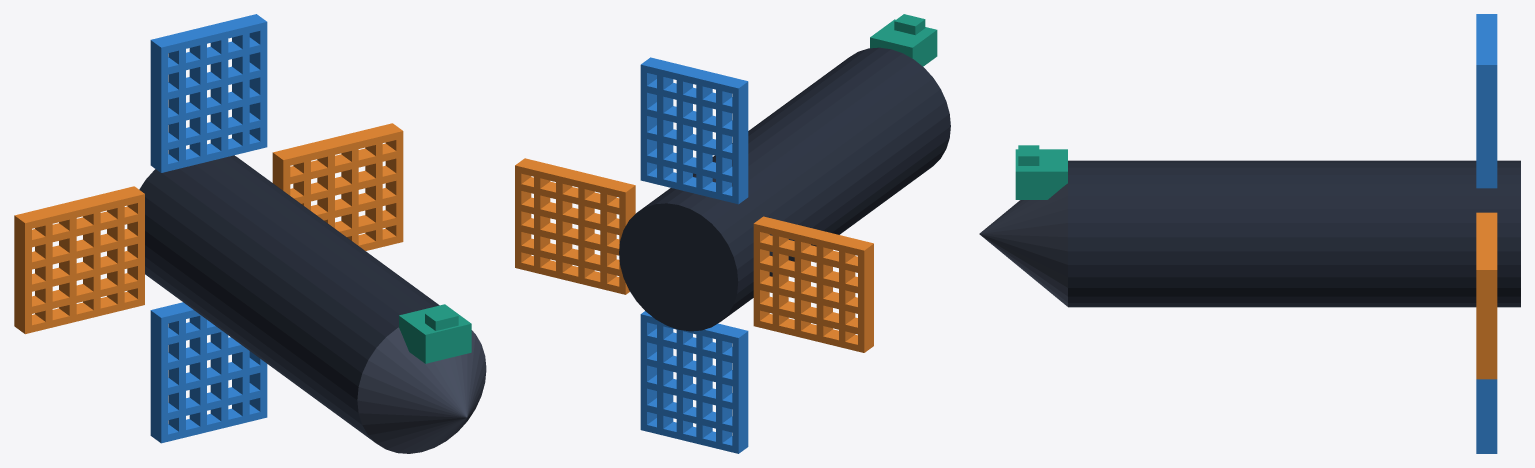
The model's file is grid-fin-model.obj.
3 renders of one model, left to right at view 1: azimuth 30°, elevation 25°; view 2: azimuth 150°, elevation 25°; view 3: azimuth 270°, elevation 25°, orthographic. The views are drawn at different scales.
Parts seen in each view (by area): view 1: Rocket_body, S8_TOP, S10_LEFT, S9_BOTTOM, S7_RIGHT, Nose, Camera_on_top_of_nose; view 2: Rocket_body, S8_TOP, S10_LEFT, S9_BOTTOM, S7_RIGHT, Camera_on_top_of_nose; view 3: Rocket_body, Nose, S8_TOP, S7_RIGHT, Camera_on_top_of_nose, S9_BOTTOM.
Part boxes in pixels (box(x1,y1,x2,y2)): Rocket_body: box(139, 155, 439, 442); S8_TOP: box(150, 14, 267, 172); S10_LEFT: box(14, 186, 144, 334); S9_BOTTOM: box(150, 302, 267, 443); S7_RIGHT: box(272, 123, 403, 250); Nose: box(357, 327, 486, 453); Camera_on_top_of_nose: box(399, 304, 471, 363); Rocket_body: box(619, 47, 950, 331); S8_TOP: box(640, 57, 748, 204); S10_LEFT: box(753, 216, 873, 352); S9_BOTTOM: box(640, 311, 748, 453); S7_RIGHT: box(515, 158, 635, 294); Camera_on_top_of_nose: box(870, 14, 937, 66); Rocket_body: box(1068, 160, 1520, 307); Nose: box(979, 183, 1067, 306); S8_TOP: box(1476, 14, 1497, 188); S7_RIGHT: box(1476, 212, 1497, 379); Camera_on_top_of_nose: box(1015, 145, 1067, 199); S9_BOTTOM: box(1476, 379, 1497, 453).
Size of the model in its own units: 164 by 164 by 207.
